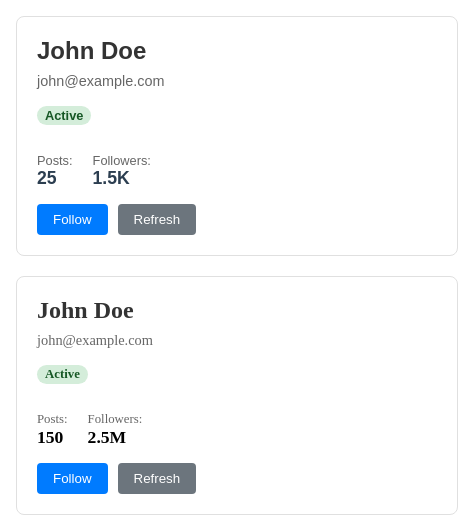
Test case: UserProfile - Using Test Helpers › Complex Test Scenarios › tests complete user interaction flow
The width and height of the screenshot is (475, 532).
Click the button with class "follow-btn" below "150".
click(72, 479)  # box [37,463,108,494]
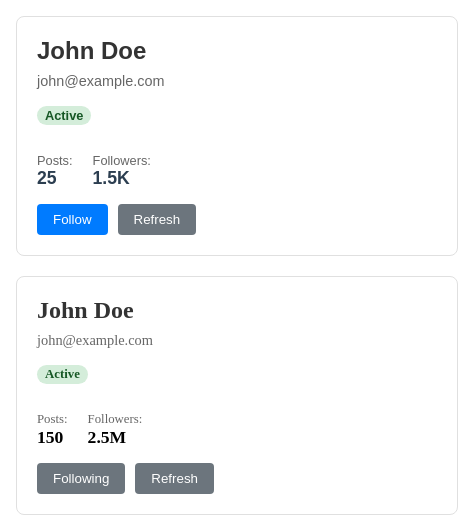
Result: the button with class "follow-btn" reads "Following" at [37,463,125,494]
Result: the button with class "follow-btn" showing "Following" is disabled at [37,463,125,494]
